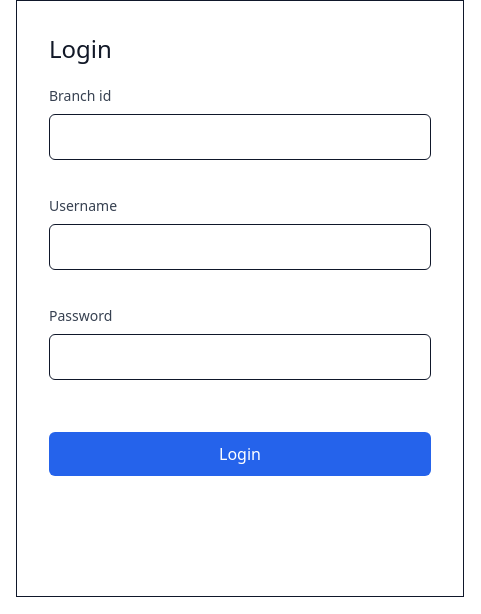
Test: branch-id label is associated with branch-id input
This screenshot has width=481, height=614.
Click the field labelled "Branch id" at {"x": 240, "y": 137}, box [49, 114, 431, 160]
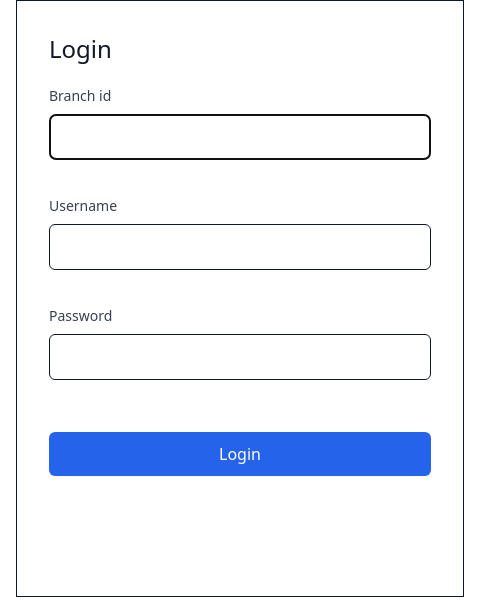
Type keys "hello branch id"
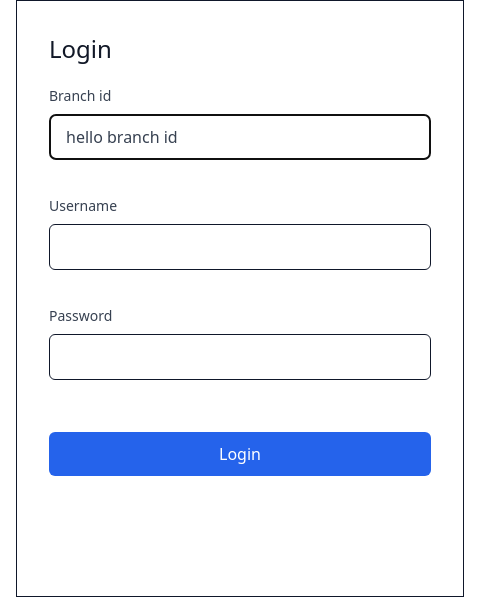
Expected: the field showing "hello branch id" is shown, [49, 114, 431, 160]
